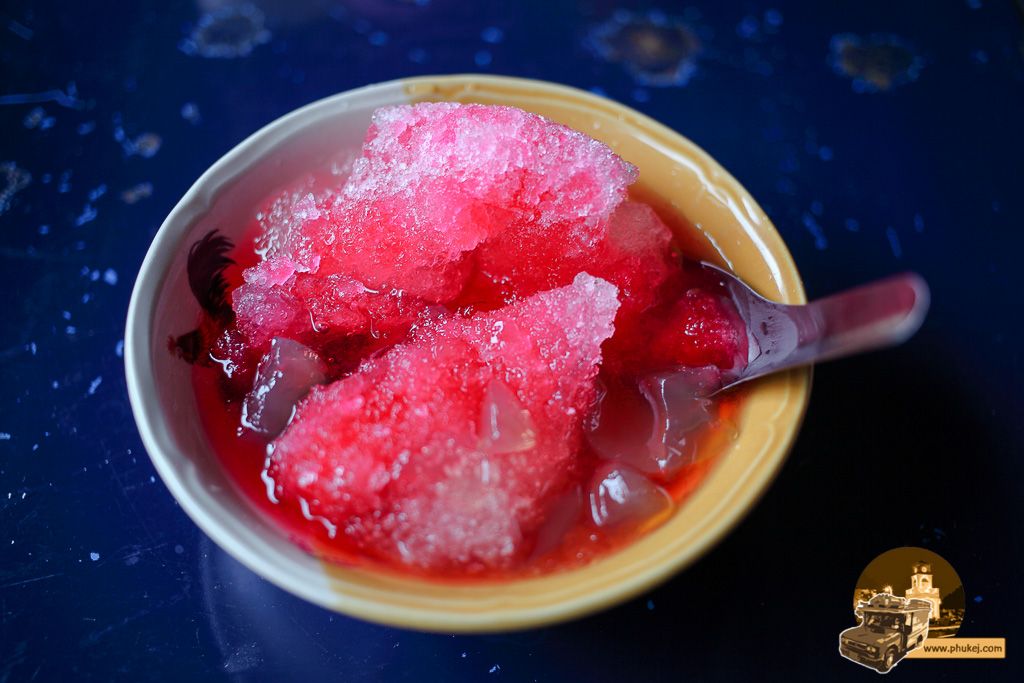O-eo: (141, 72, 817, 627)
